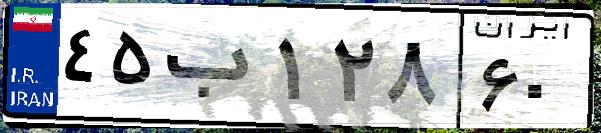0: (525, 38, 570, 115)
1: (270, 28, 330, 110)
2: (330, 28, 385, 110)
4: (57, 26, 110, 100)
5: (110, 28, 158, 98)
6: (475, 38, 525, 113)
8: (385, 28, 445, 110)
ب: (158, 20, 270, 120)
